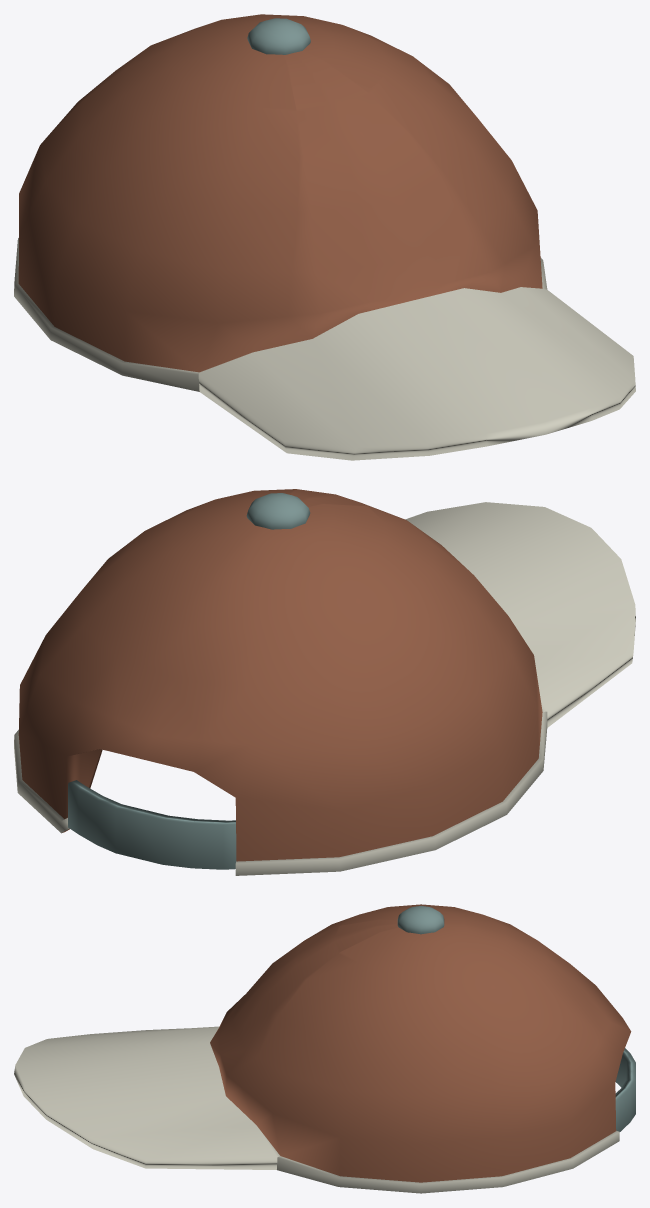
File: Baseball_Cap.fbx
3 renders of one model, top to bottom at view 1: azimuth 30°, elevation 25°; view 2: azimuth 150°, elevation 25°; view 3: azimuth 270°, elevation 25°, orthographic. The views are drawn at different scales.
Visible parts, largest first — view 1: pasted__hat; view 2: pasted__hat; view 3: pasted__hat.
Part boxes in pixels (x1,y1,x2,y2): pasted__hat: [14, 14, 635, 460]; pasted__hat: [14, 489, 635, 875]; pasted__hat: [14, 904, 635, 1193].
Size of the model in its own units: 39.32 by 21.55 by 60.91.
